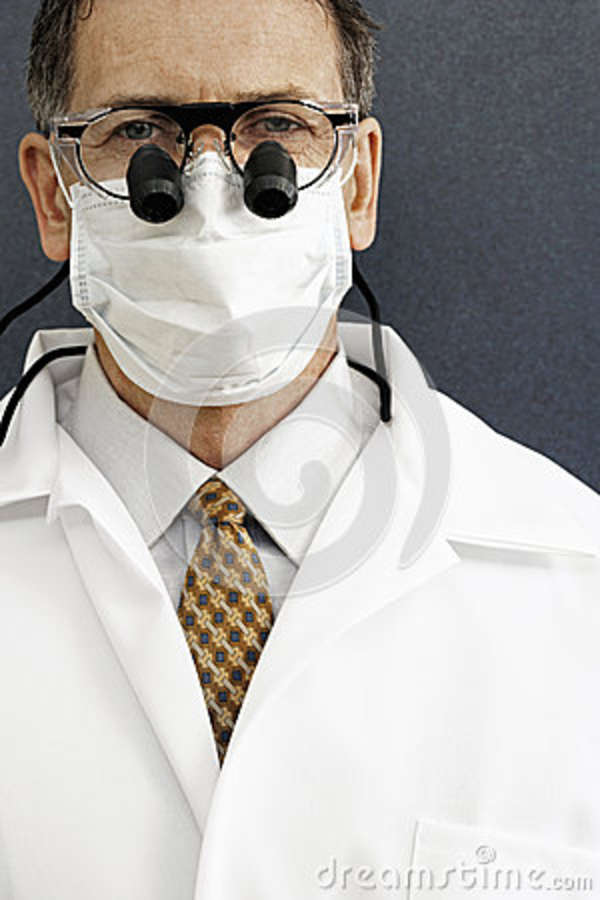mask: (71, 171, 355, 414)
